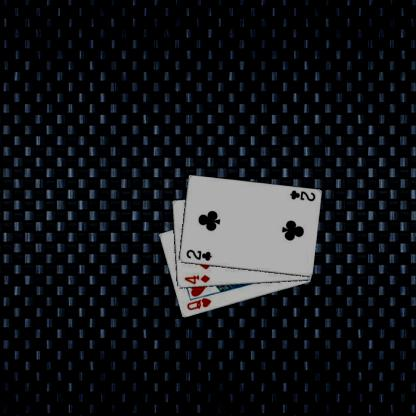2C: (287, 188, 316, 203), (184, 248, 212, 262)
4D: (182, 272, 210, 286)
QH: (184, 296, 212, 312)
